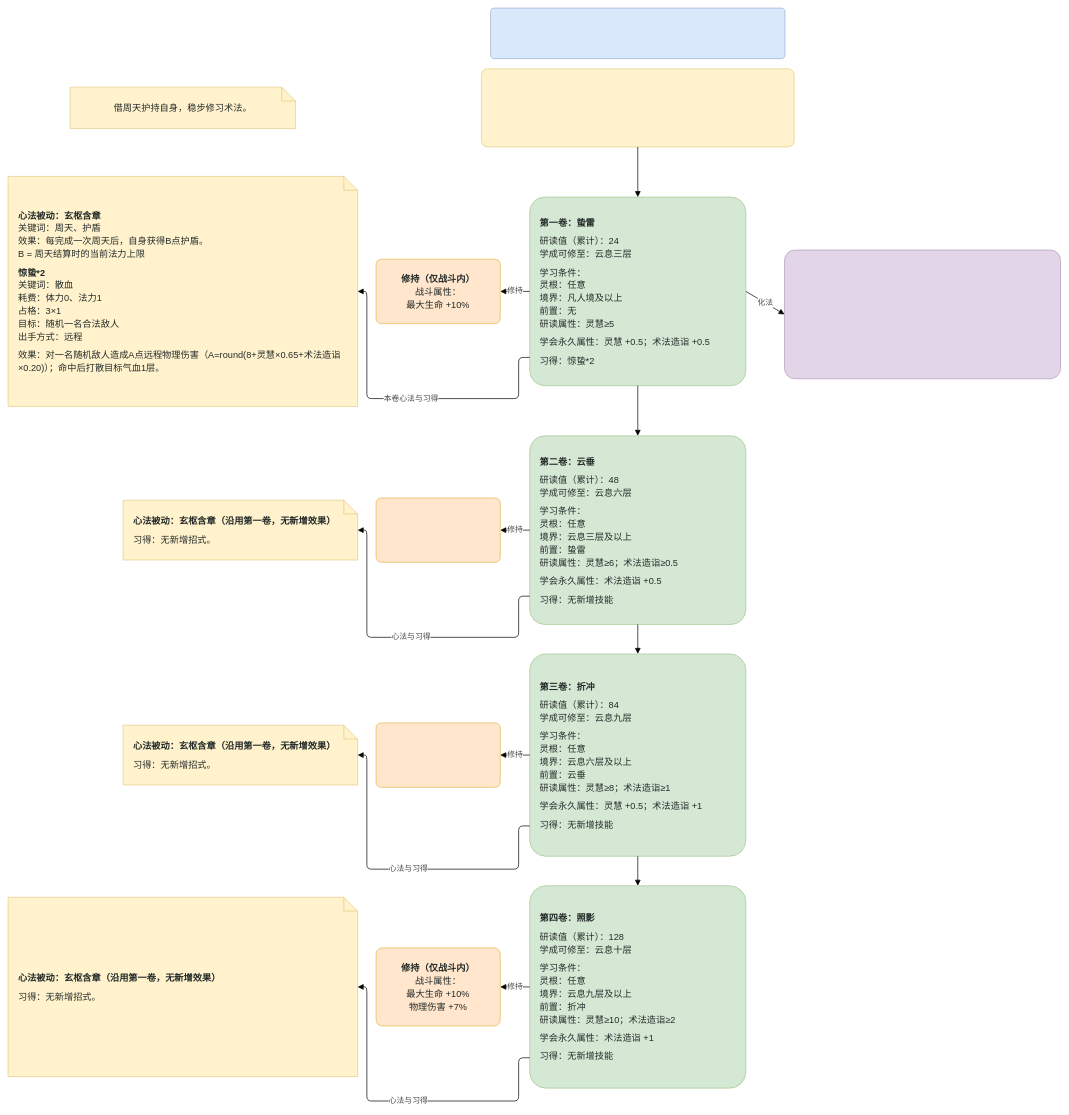
The diagram is 1069 pixels wide and 1115 high, and some of its shapes have lost their labels. The centre of each missing label's shape, as x and y in pixels:
"修持（仅战斗内） 战斗属性： 会心 +8%" belongs at pixel 438 529.
"修持（仅战斗内） 战斗属性： 物理伤害 +5%" belongs at pixel 438 754.
"玄枢含章经" belongs at pixel 637 33.
"玄枢含章经 可主修、可辅修，主修至云息十层。 已学招式由玩家自行放入灵台，化法占单格并指向紧邻的一份。 战斗开始后灵台锁定；心法由当前主辅修自动生效。" belongs at pixel 637 107.
"玄枢含章经·蛰雷*1 化法*1 占格：1×1 化法追加：惊蛰造成的物理伤害无视目标护盾，直接作用于生命；目标护盾不变。" belongs at pixel 922 314.
